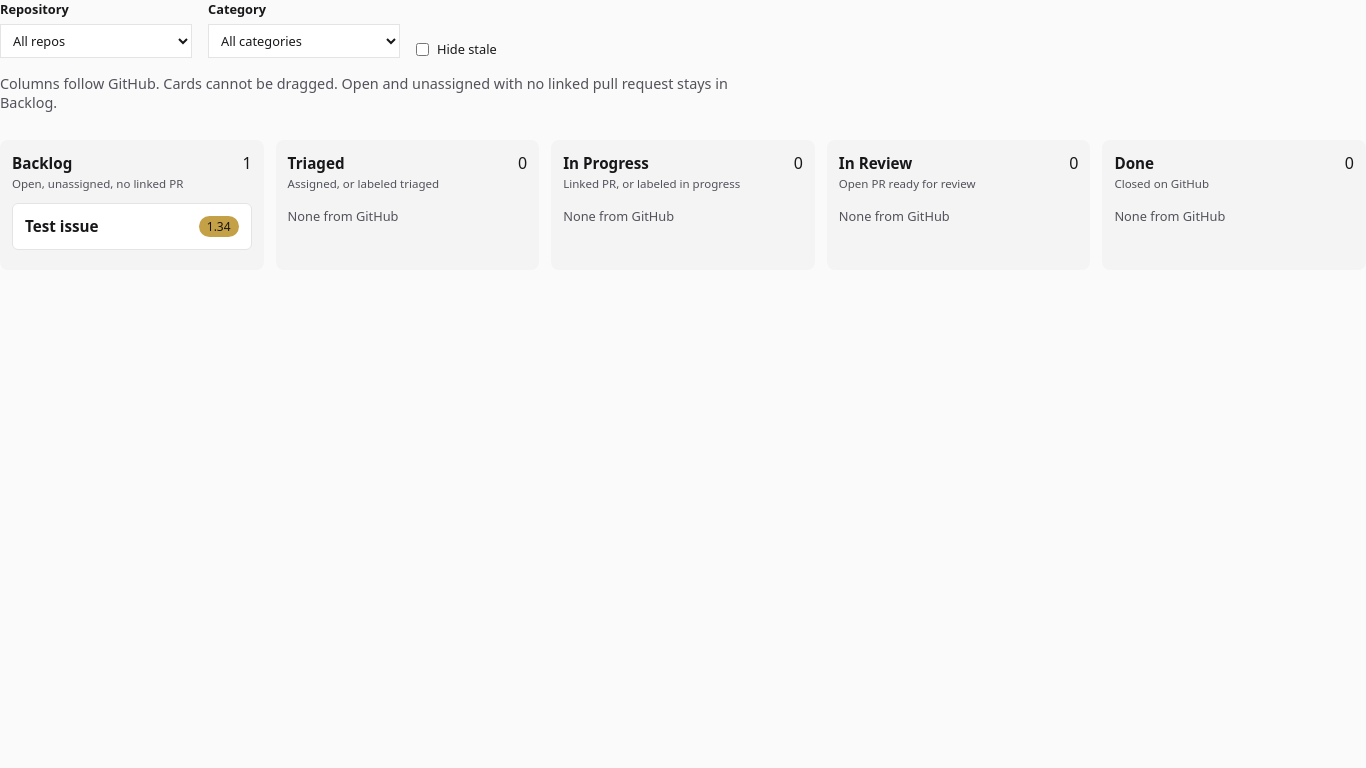
Scenario: says the score is a work index, not percent complete
The image size is (1366, 768).
Click the button named "Work index 1.34".
click(219, 227)  # box [199, 216, 239, 237]
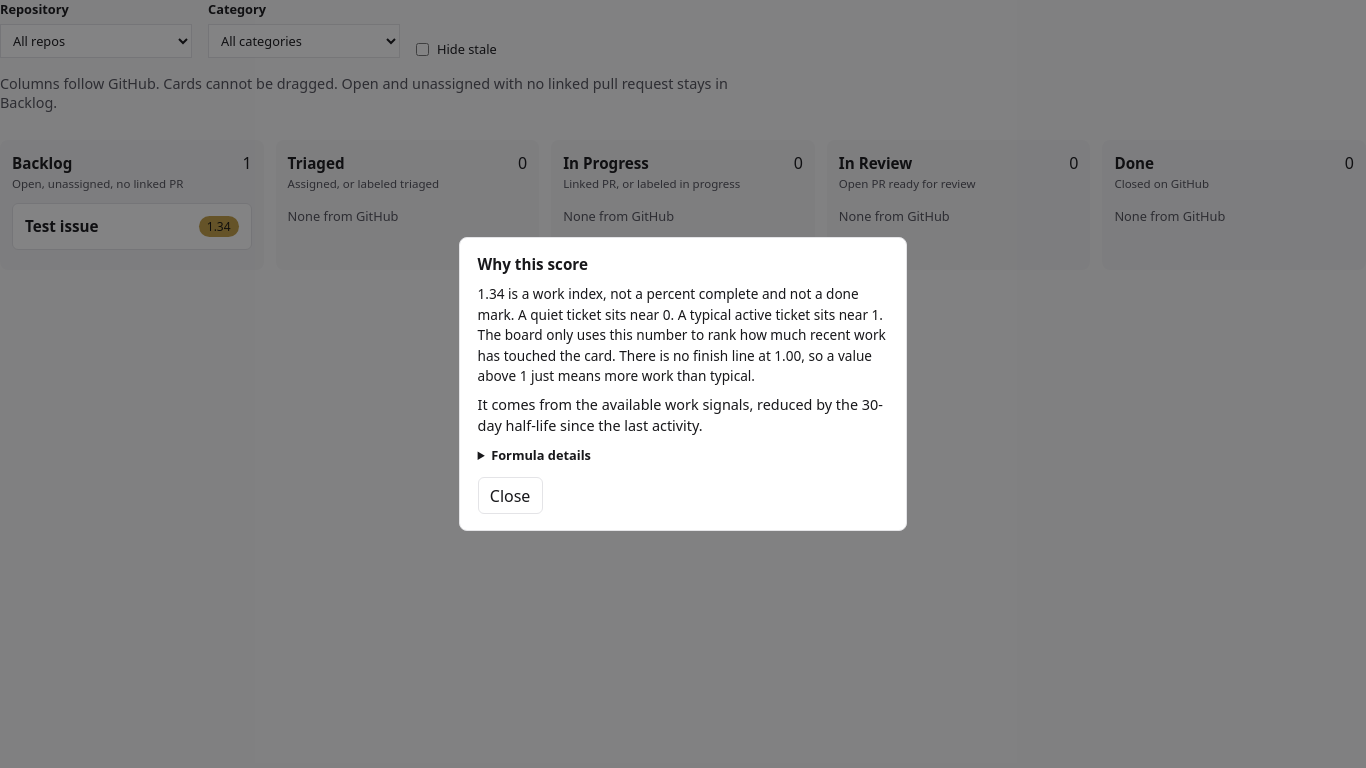
expect the dialog "Why this score" does not show "%": met, box [459, 237, 907, 531]
expect the dialog "Why this score" shows "1.34 is a work index, not a percent complete and not a done mark.": met, box [478, 284, 886, 385]
expect the dialog "Why this score" shows "There is no finish line at 1.00": met, box [478, 284, 886, 385]
